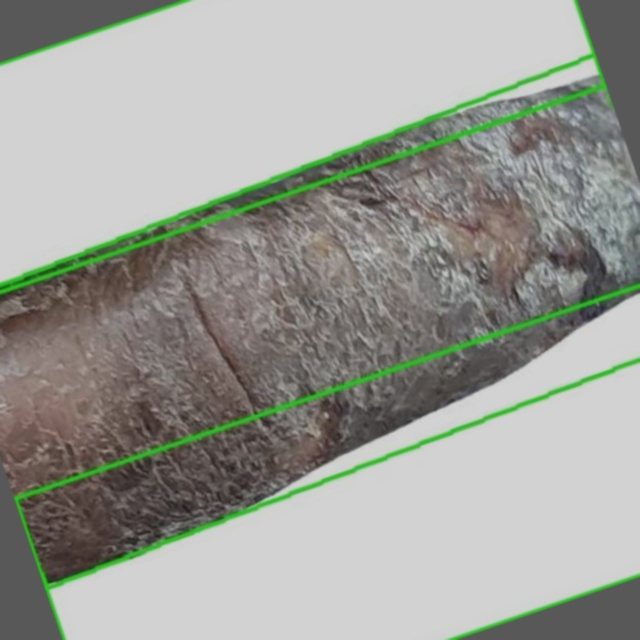Eczema: (0, 56, 639, 589), (15, 285, 639, 639), (0, 0, 605, 292)
